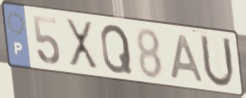5: (31, 13, 61, 67)
8: (134, 26, 165, 82)
A: (169, 33, 205, 84)
Q: (99, 22, 135, 76)
U: (198, 32, 237, 91)
X: (63, 16, 100, 74)
